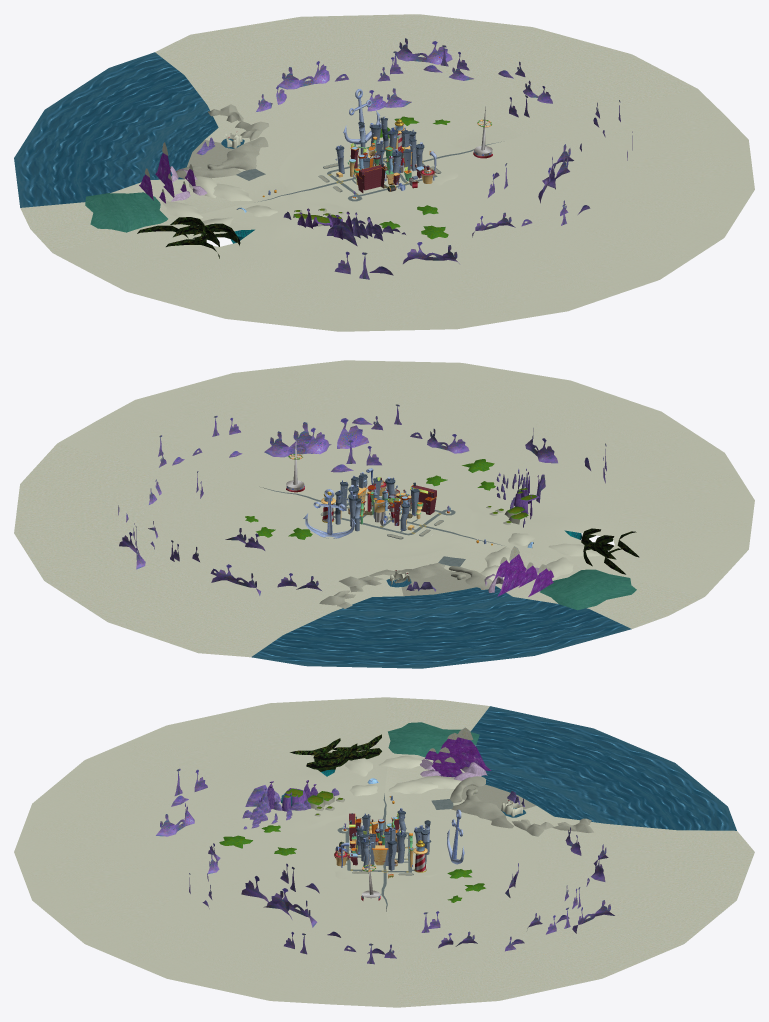
The picture shows the model from 3 angles, top to bottom: view 1: azimuth 30°, elevation 25°; view 2: azimuth 150°, elevation 25°; view 3: azimuth 270°, elevation 25°; orthographic projection.
Parts seen in each view (by area): view 1: mesh; view 2: mesh; view 3: mesh.
Part boxes in pixels (left/top/right/bottom): mesh: left=14, top=14, right=754, bottom=331; mesh: left=14, top=360, right=754, bottom=668; mesh: left=14, top=697, right=754, bottom=1007.
Bounding box in the file's own units: 1512 × 155 × 1520.
Materials: 55 (52 with a texture image).
